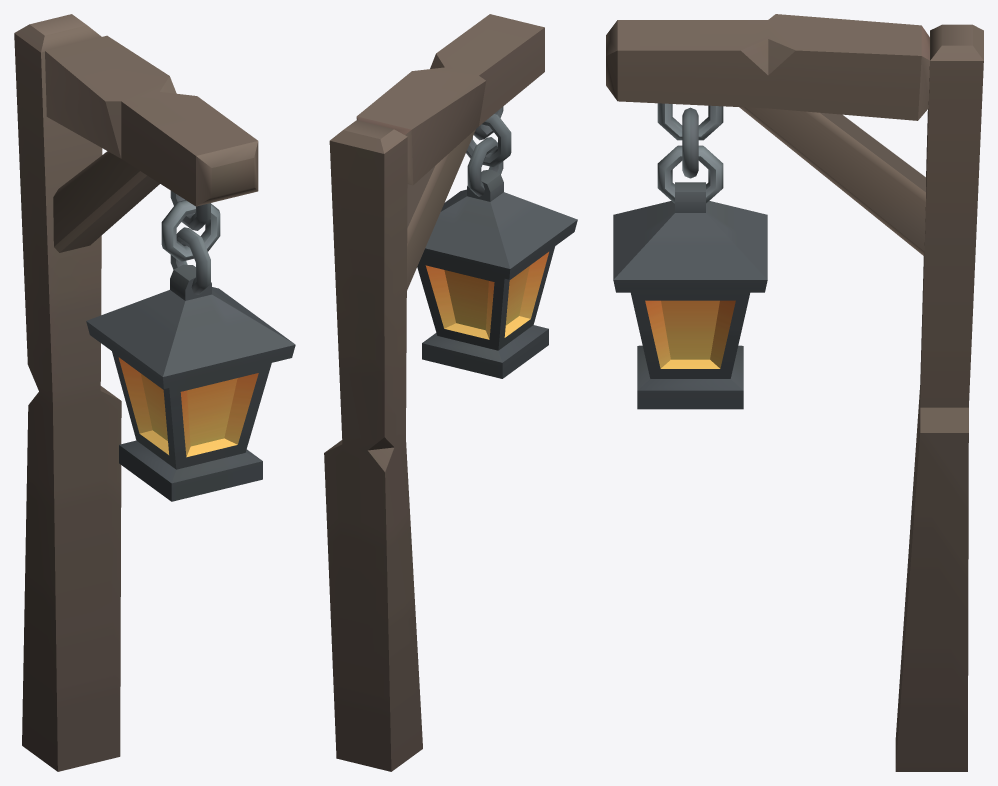
Rendered from kay-poste-lanterna.gltf.
3 views of the same model, side by side, from view 1: azimuth 30°, elevation 25°; view 2: azimuth 150°, elevation 25°; view 3: azimuth 270°, elevation 25° (orthographic). The views are drawn at different scales.
Visible parts, largest first — view 1: post_lantern; view 2: post_lantern; view 3: post_lantern.
Part boxes in pixels (x1=…): post_lantern: x1=14, y1=14, x2=295, y2=771; post_lantern: x1=324, y1=14, x2=577, y2=771; post_lantern: x1=606, y1=14, x2=983, y2=771.
Size of the model in its own units: 0.3201 by 1.65 by 0.7832.
1 material, 1 textured.
